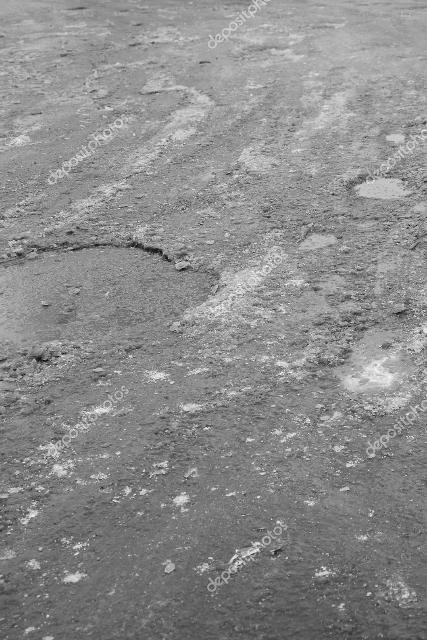Pothole: (1, 232, 237, 390), (330, 150, 414, 230)
